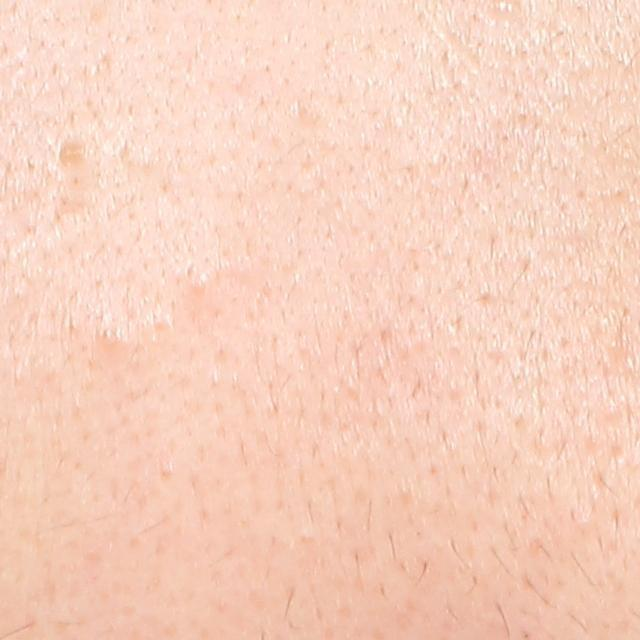comedo: (92, 321, 138, 358), (56, 139, 85, 166)
